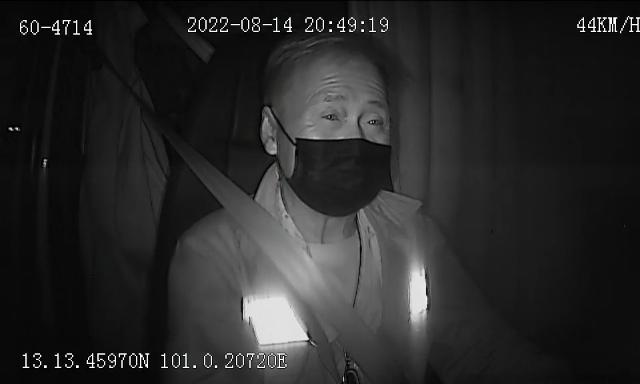SafeDriving: (357, 106, 392, 133), (316, 104, 346, 125)
Seatbelt: (122, 84, 386, 384)
